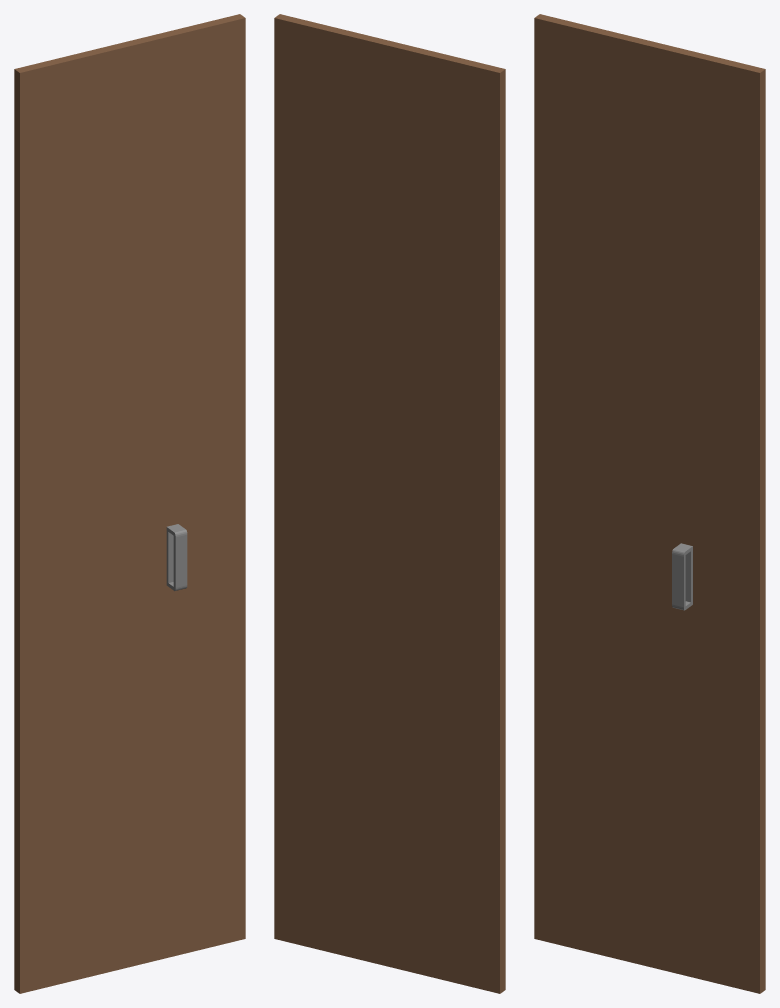
The model's file is Pantry_Door_L.fbx.
The picture shows the model from 3 angles, left to right: view 1: azimuth 30°, elevation 25°; view 2: azimuth 150°, elevation 25°; view 3: azimuth 330°, elevation 25°; orthographic projection.
Parts seen in each view (by area): view 1: Pantry Door L; view 2: Pantry Door L; view 3: Pantry Door L.
Boxes of the visible parts, bbox=[...] form: Pantry Door L: bbox=[14, 14, 245, 993]; Pantry Door L: bbox=[274, 14, 505, 993]; Pantry Door L: bbox=[534, 14, 765, 993].
Bounding box in the file's own units: 676 × 2637 × 75.32.
